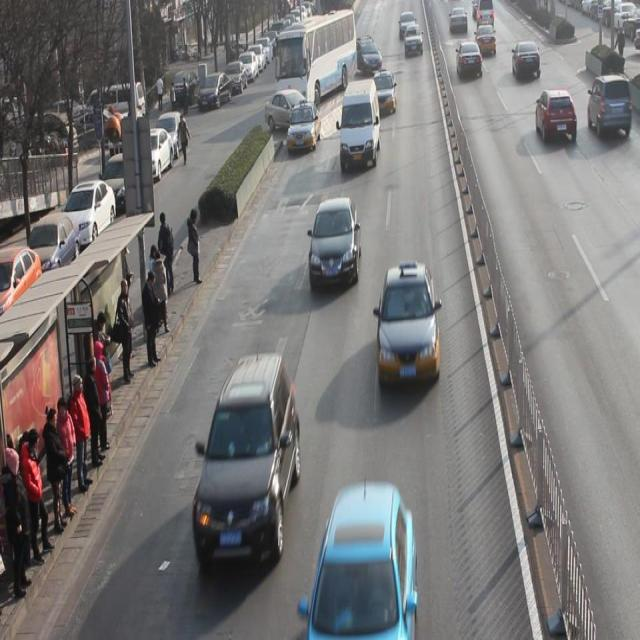car: (194, 350, 300, 570), (303, 483, 416, 640), (379, 264, 440, 384), (309, 195, 361, 287), (588, 72, 632, 139), (264, 89, 320, 134), (536, 88, 578, 145), (288, 102, 322, 154), (356, 35, 382, 82), (370, 72, 398, 115), (512, 41, 541, 82), (456, 42, 483, 80), (403, 23, 424, 60), (476, 24, 497, 59)
truck: (340, 78, 381, 172)
van: (276, 16, 357, 112)
